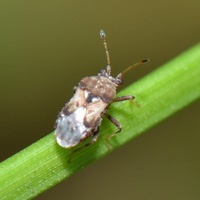insect: (55, 30, 149, 147)
